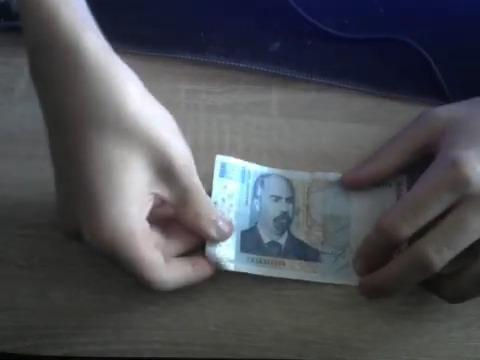20leva: (206, 155, 401, 287)
